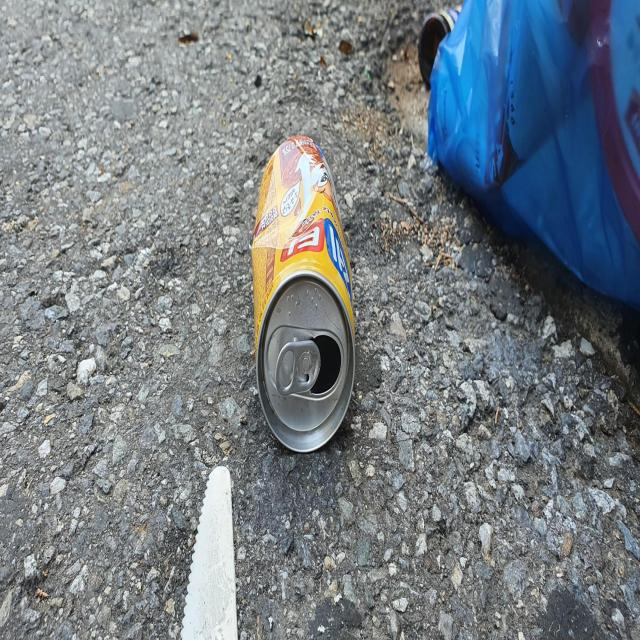can: (252, 134, 355, 451)
